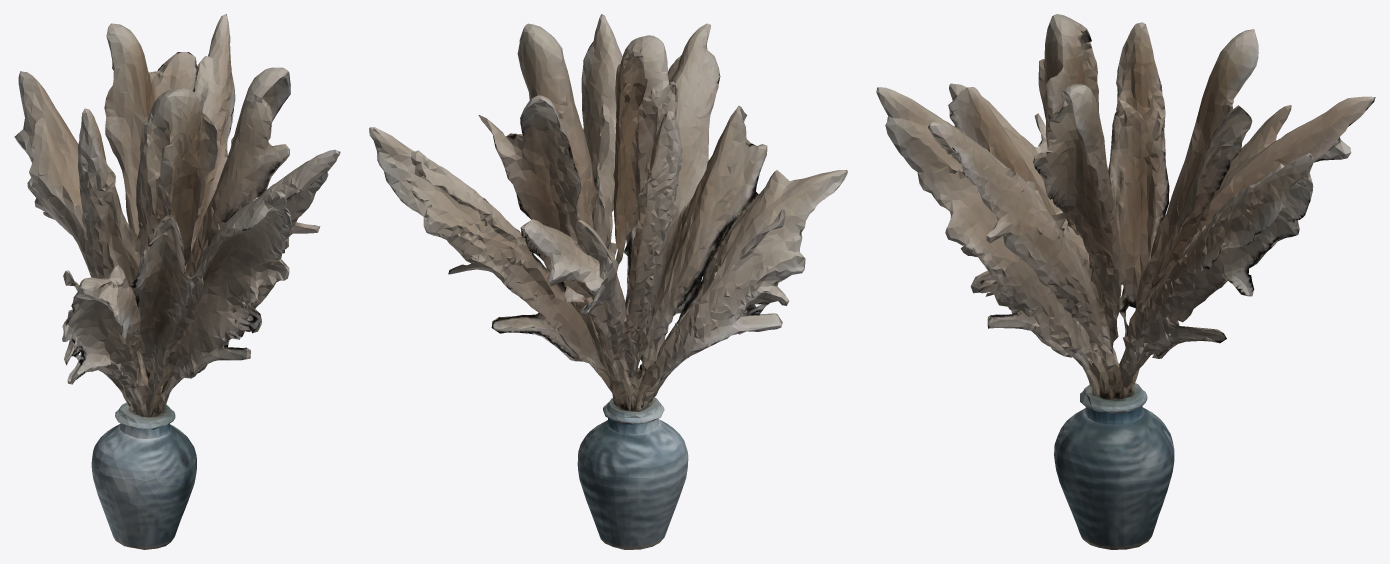
File: ast_251c115561c7.glb
3 views of the same model, side by side, from view 1: azimuth 30°, elevation 25°; view 2: azimuth 150°, elevation 25°; view 3: azimuth 270°, elevation 25° (orthographic). The views are drawn at different scales.
Parts seen in each view (by area): view 1: geometry_0; view 2: geometry_0; view 3: geometry_0.
Part boxes in pixels (bbox=[...]): geometry_0: bbox=[14, 14, 340, 549]; geometry_0: bbox=[369, 14, 847, 549]; geometry_0: bbox=[876, 14, 1375, 549].
Size of the model in its own units: 0.6846 by 0.999 by 0.8616.
Materials: 1 (1 with a texture image).
